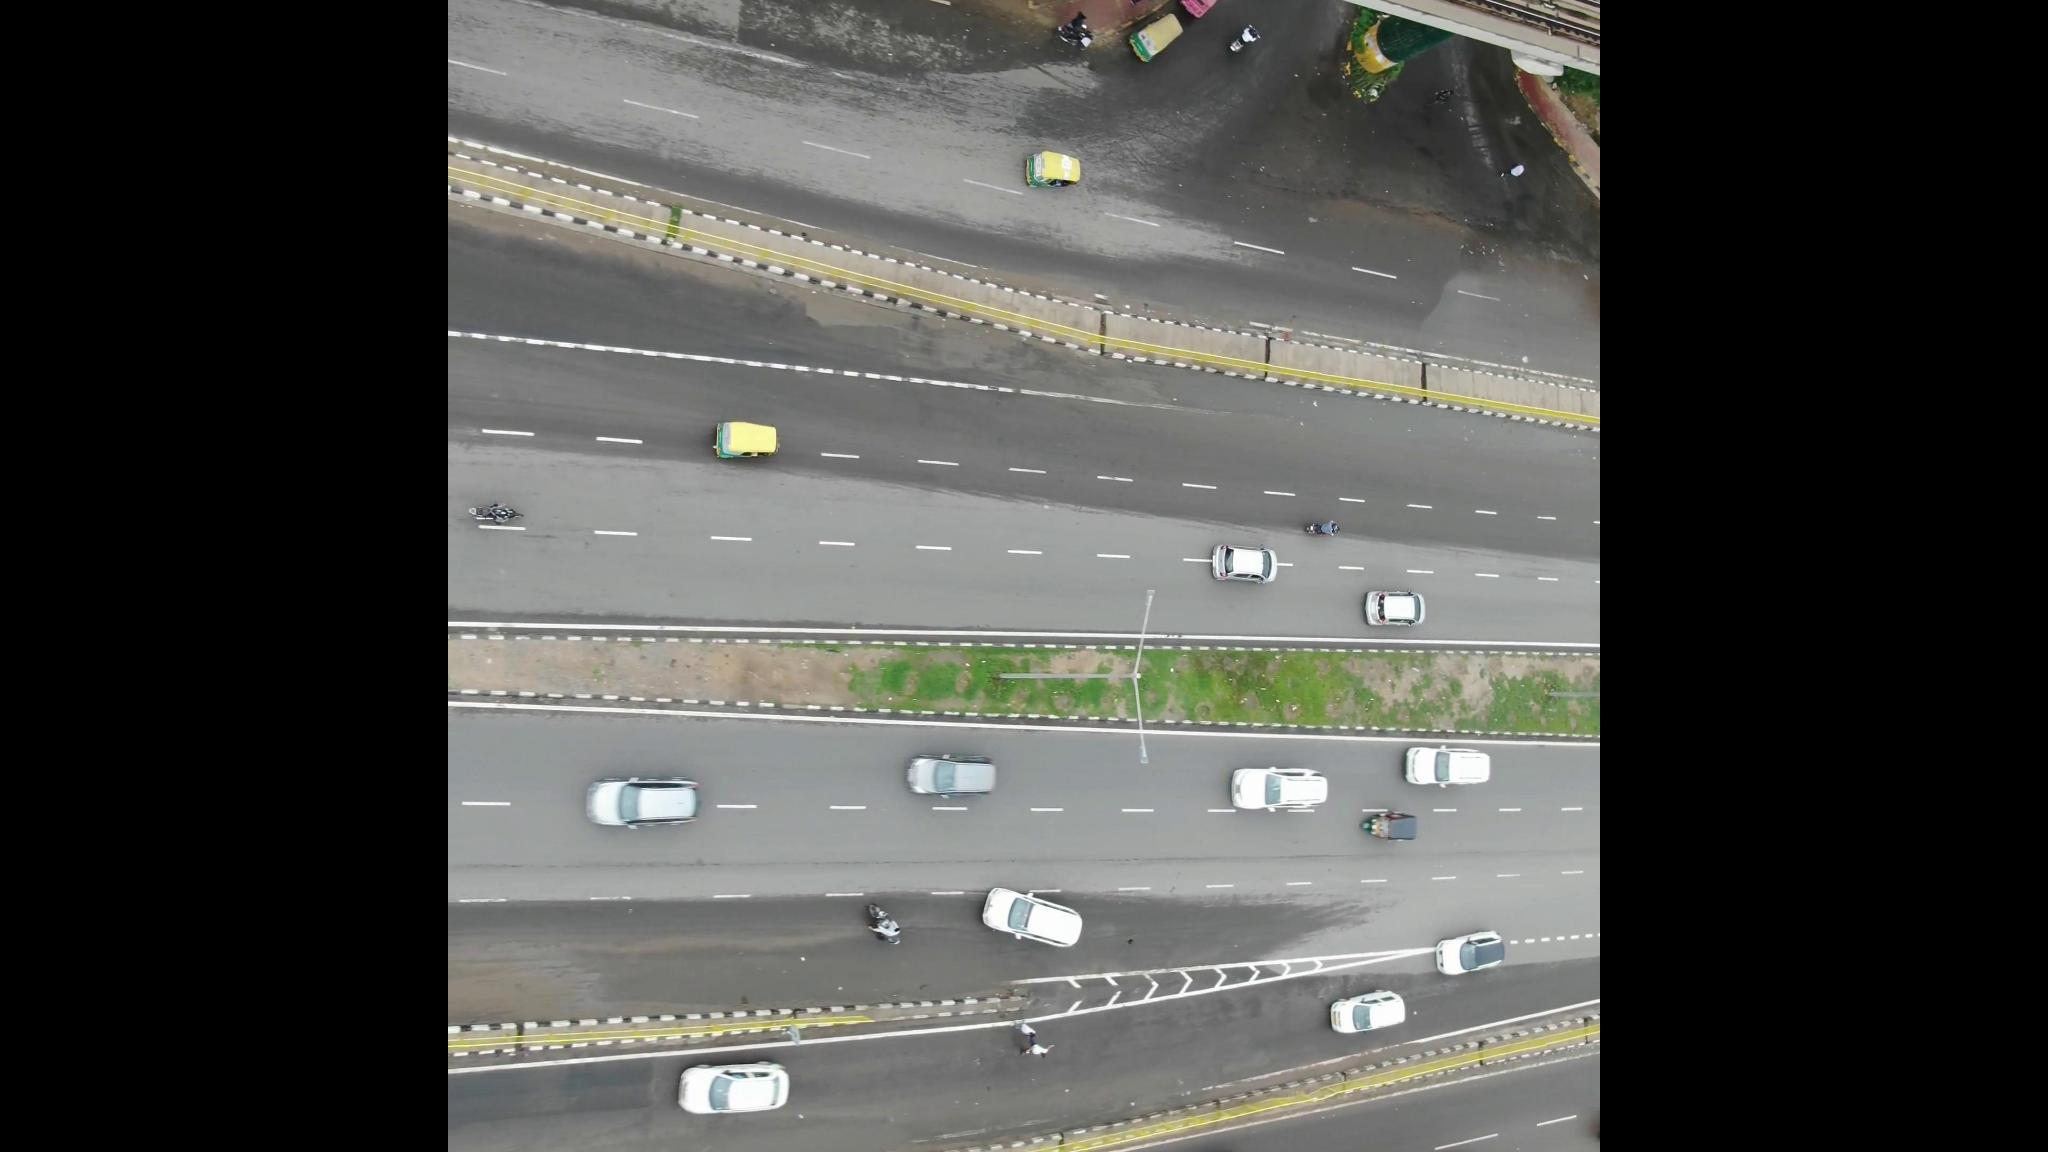Ravelling: (872, 843, 1280, 886), (467, 851, 848, 897), (1304, 833, 1551, 890)
